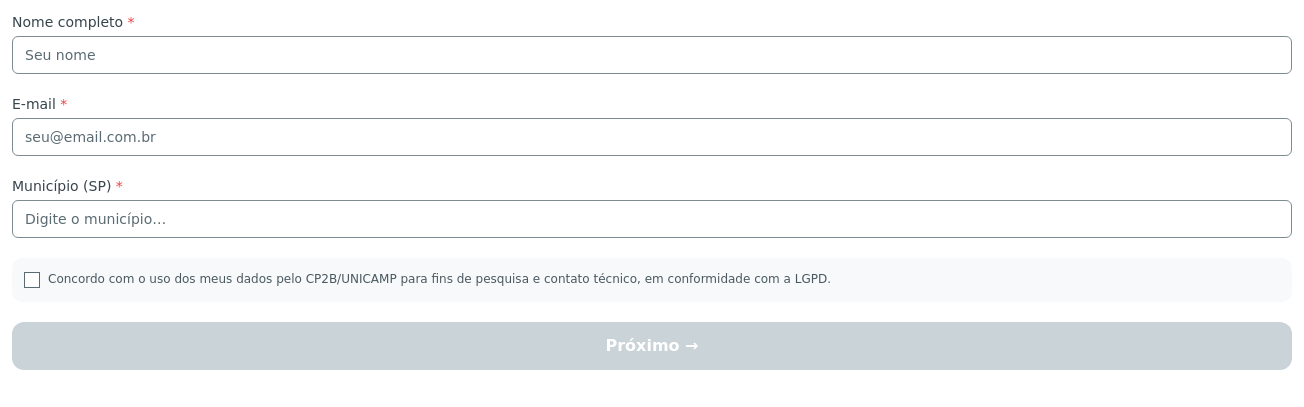
Test case: StepIdentificacao › advances once every required field is valid and a listed municipality is chosen
Expected: the field labelled "Município (SP) *" is enabled, [12, 200, 1292, 238]
Type "Ana Souza" into the field labelled "Nome completo *" at point(652, 55), box [12, 36, 1292, 74]
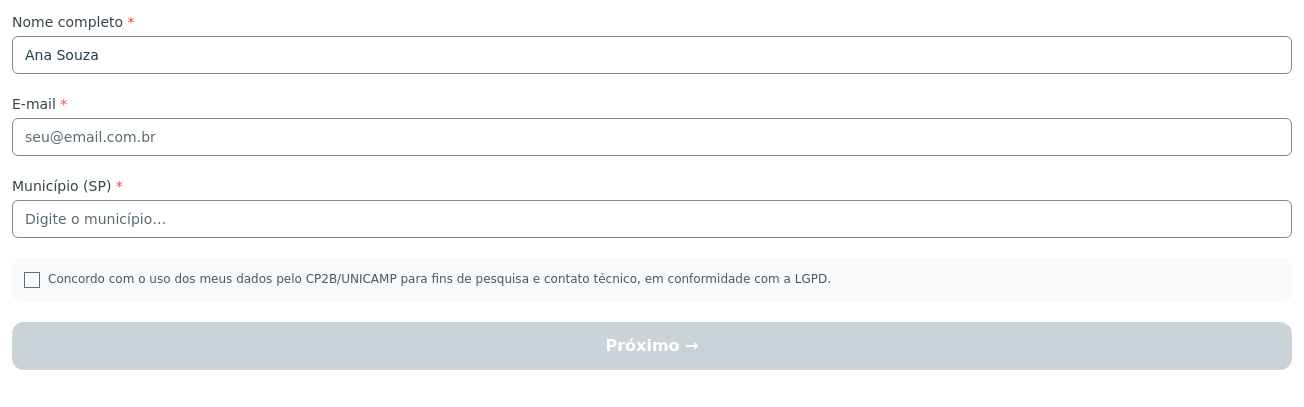
Type "ana@unicamp.br" into the field labelled "E-mail *" at point(652, 137), box [12, 118, 1292, 156]
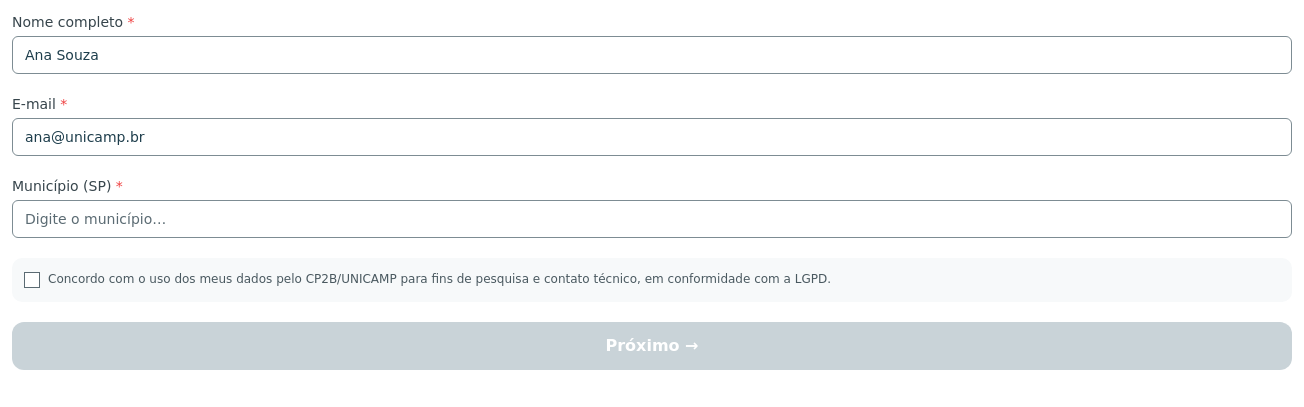
Click the checkbox at point(32, 280), box [24, 272, 40, 288]
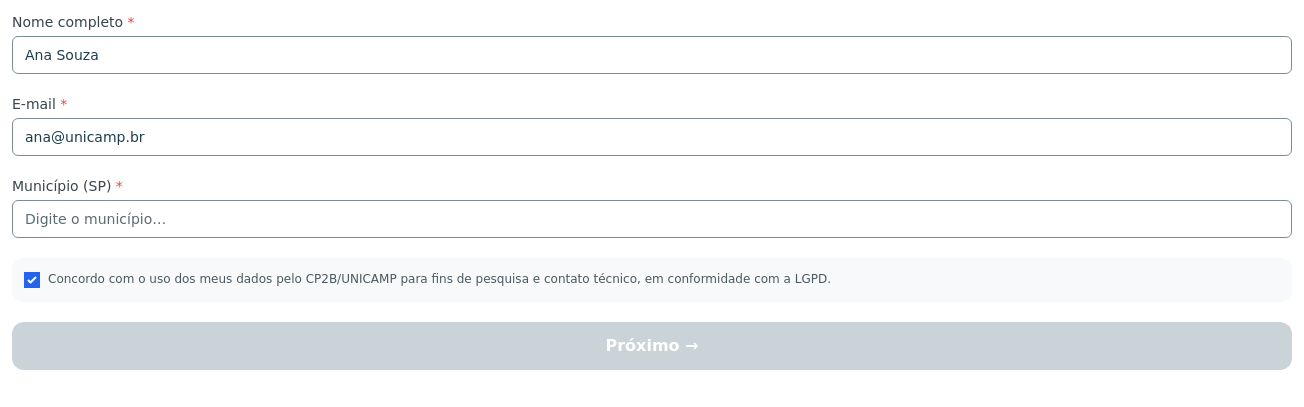
Expected: the button "Próximo →" is disabled, [12, 322, 1292, 370]
Type "Ribeirão" into the field labelled "Município (SP) *" at point(652, 219), box [12, 200, 1292, 238]
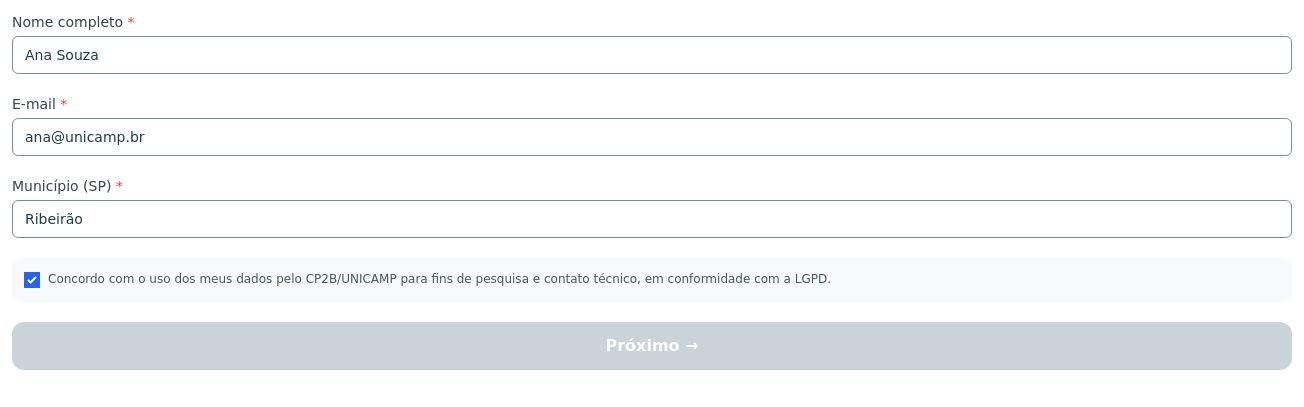
Expected: the button "Próximo →" is disabled, [12, 322, 1292, 370]
Replace the text in the field labelled "Município (SP) *" with "ribeirão preto" at point(652, 219), box [12, 200, 1292, 238]
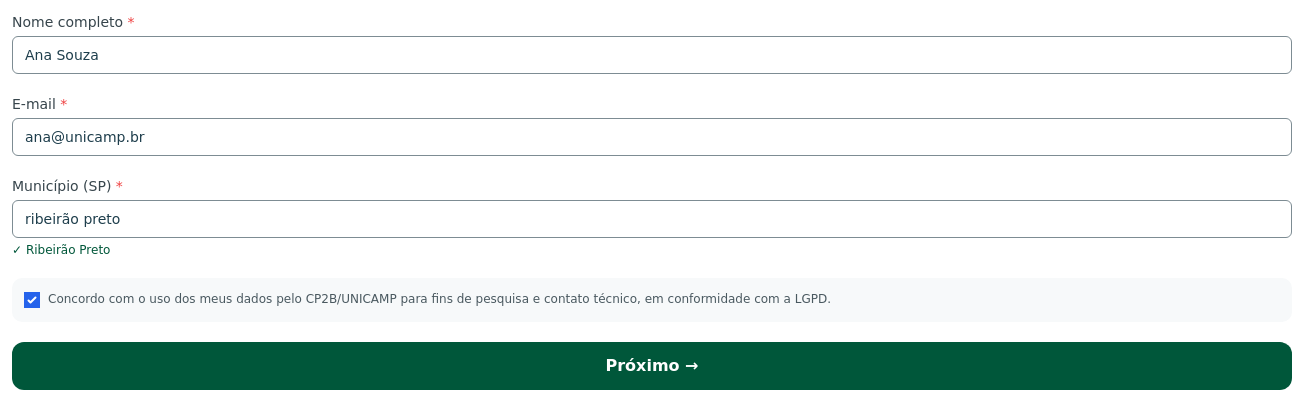
Expected: the button "Próximo →" is enabled, [12, 342, 1292, 390]
Expected: the text "✓ Ribeirão Preto" is shown, [12, 243, 110, 257]
